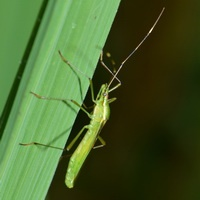insect: (30, 7, 164, 187)
